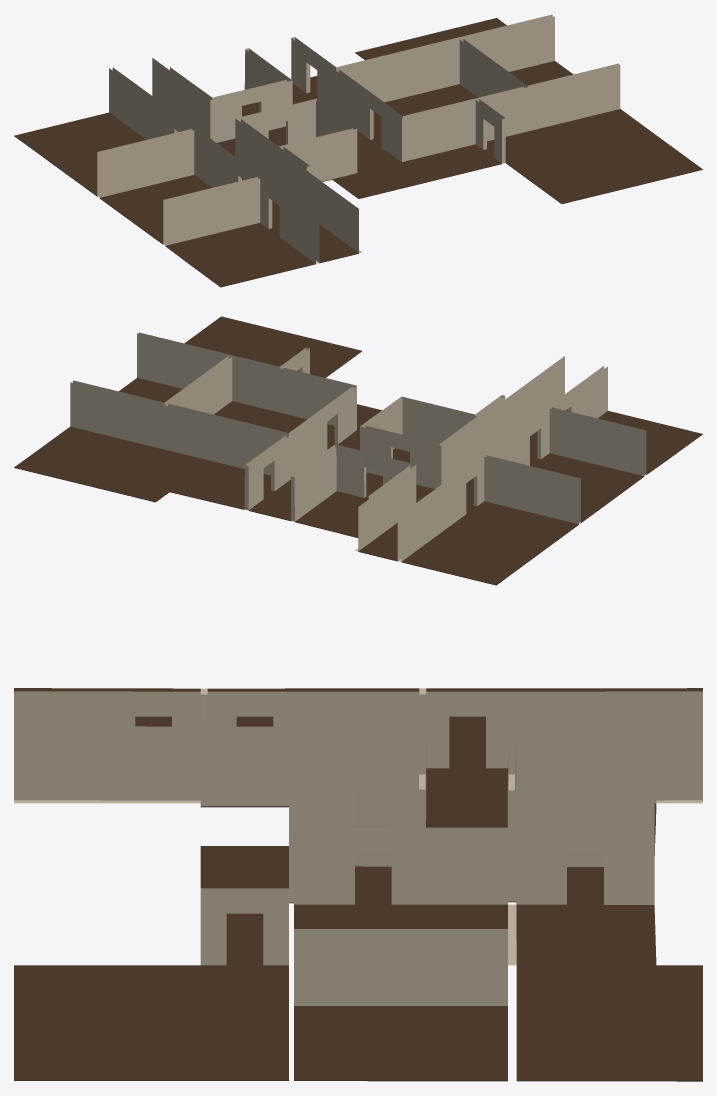
The model's file is Main_Block_Interior_FL2.fbx.
3 renders of one model, top to bottom at view 1: azimuth 30°, elevation 25°; view 2: azimuth 150°, elevation 25°; view 3: azimuth 270°, elevation 25°, orthographic. The views are drawn at different scales.
Parts seen in each view (by area): view 1: FL2.Interior.LP; view 2: FL2.Interior.LP; view 3: FL2.Interior.LP.
Part boxes in pixels (box(x1,y1,x2,y2)): FL2.Interior.LP: box(14, 14, 702, 287); FL2.Interior.LP: box(14, 316, 702, 585); FL2.Interior.LP: box(14, 688, 702, 1081).
Size of the model in its own units: 39.82 by 3.54 by 29.53.
